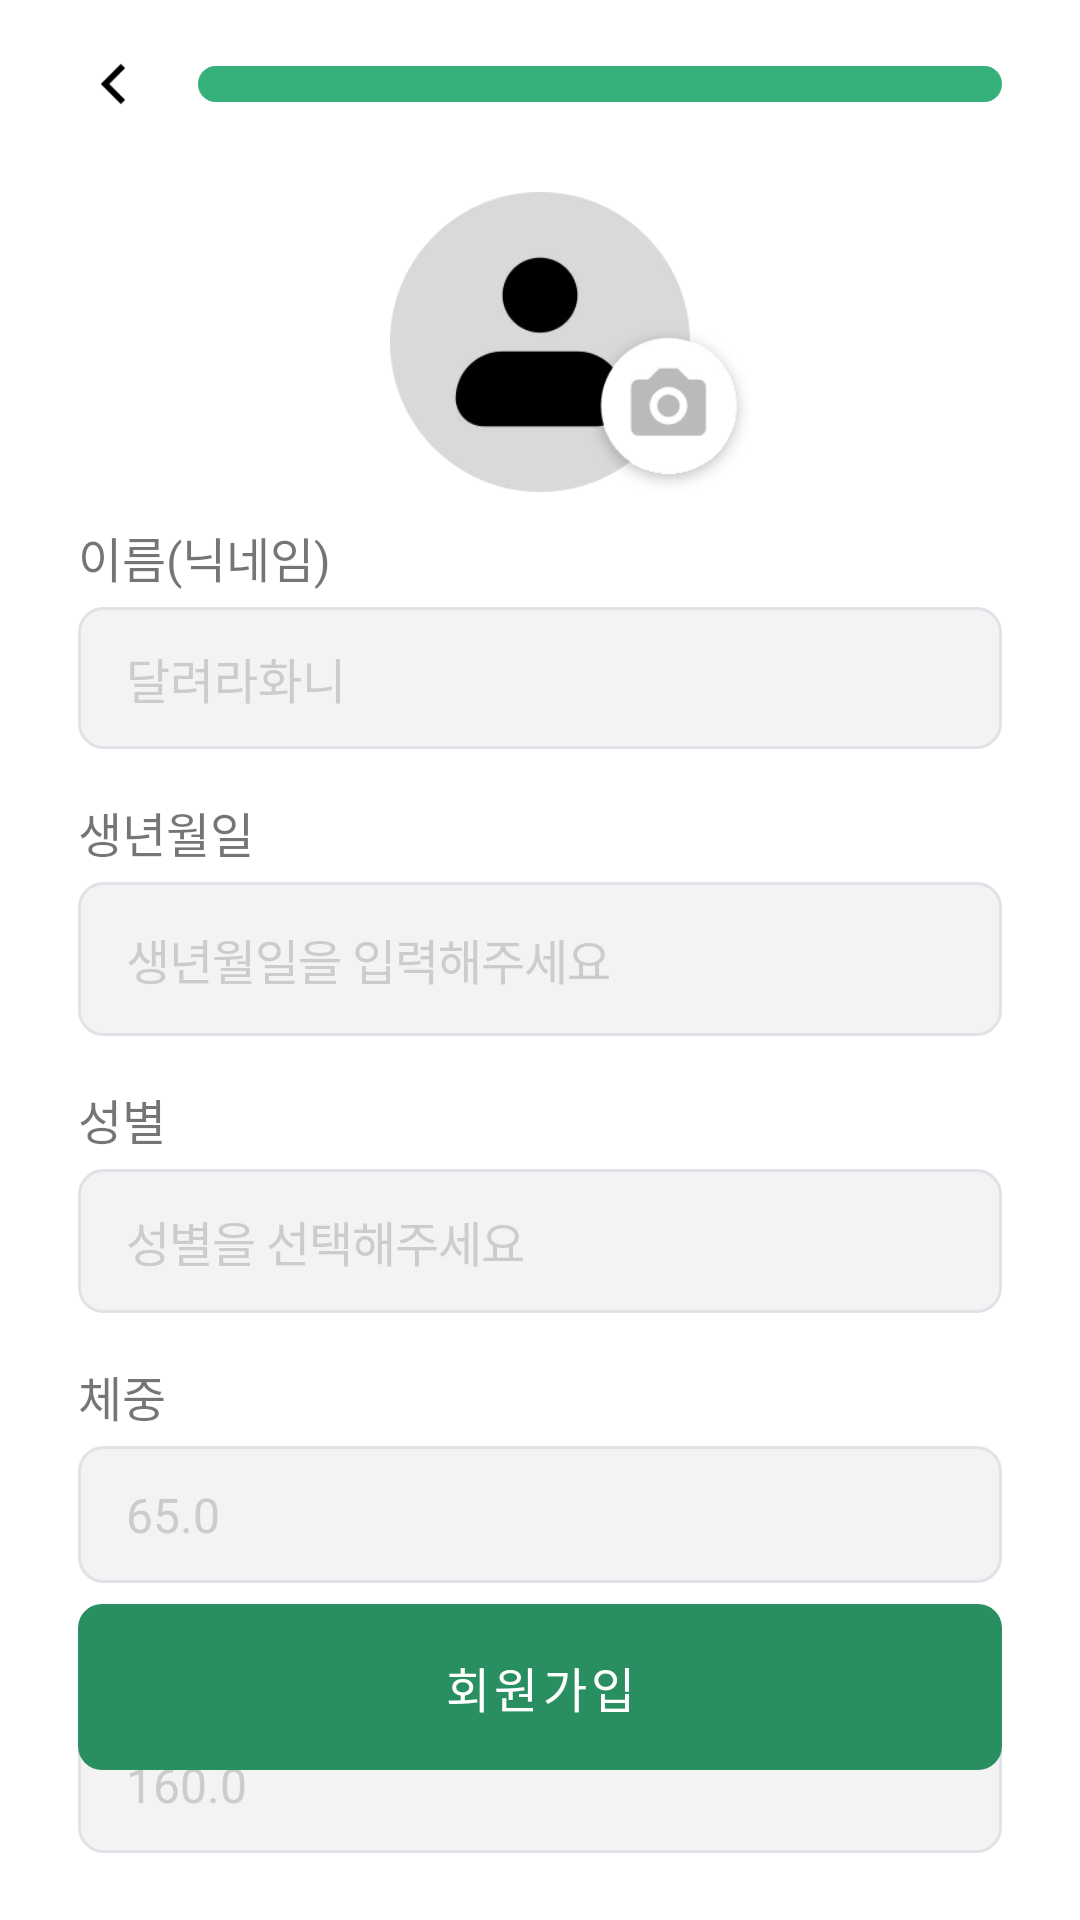

Icon bounding boxes for this 1080px x 1920px phone screenshot, format box(x1, y1, x2, y2):
left arrow: box(101, 63, 125, 105)
